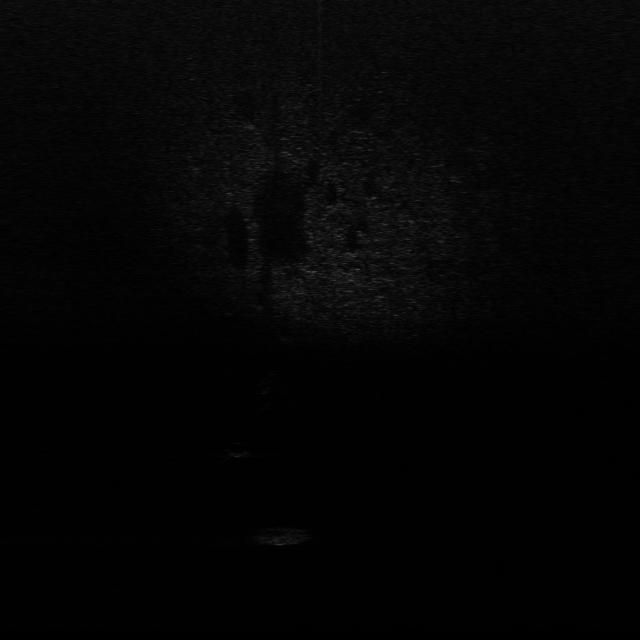ball: (228, 442, 251, 458)
circle cage: (250, 526, 316, 547)
human body: (258, 366, 284, 414)
